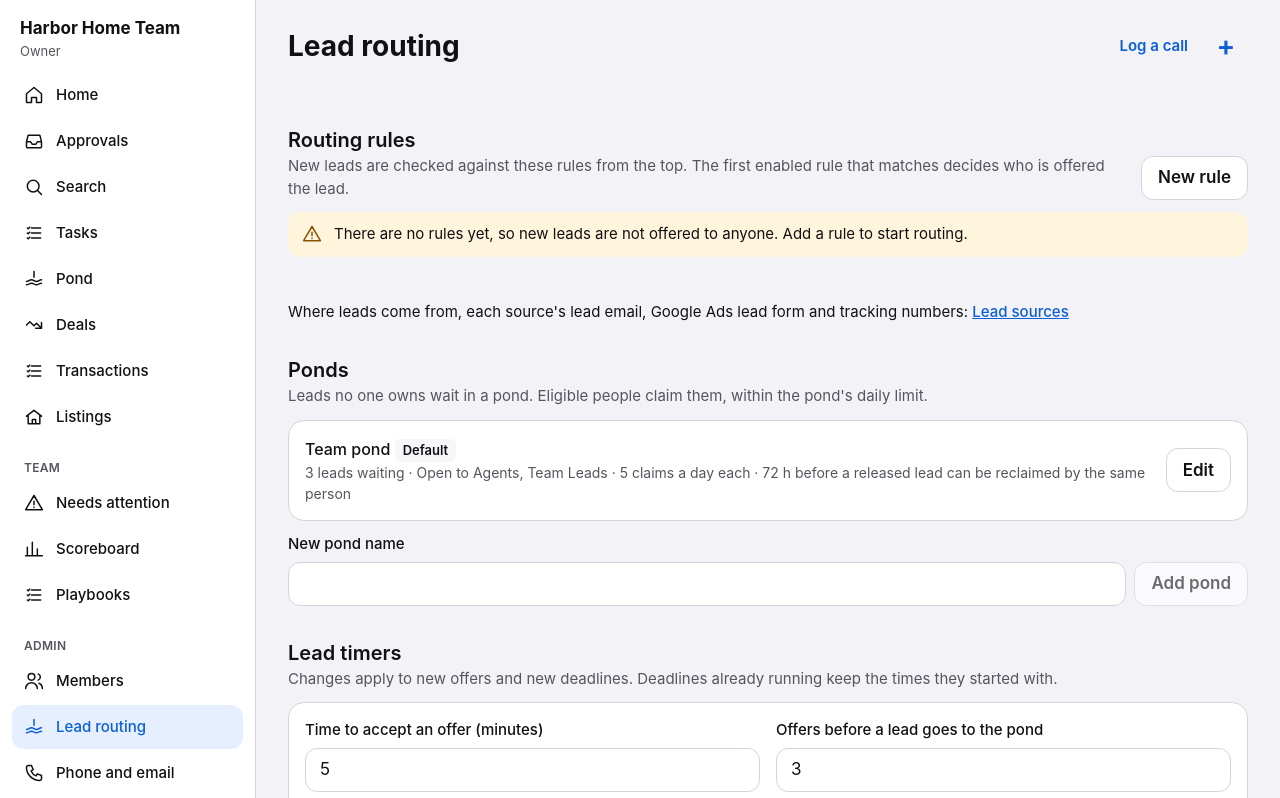
Test: Lead routing › does not send a rule that is missing what it needs, and says what is missing
This screenshot has width=1280, height=798.
What coordinates should you click on to do the following:
click the button "New rule"
I would click on:
 (1195, 178)
Its box is [1141,156,1248,200].
(page scrolled)
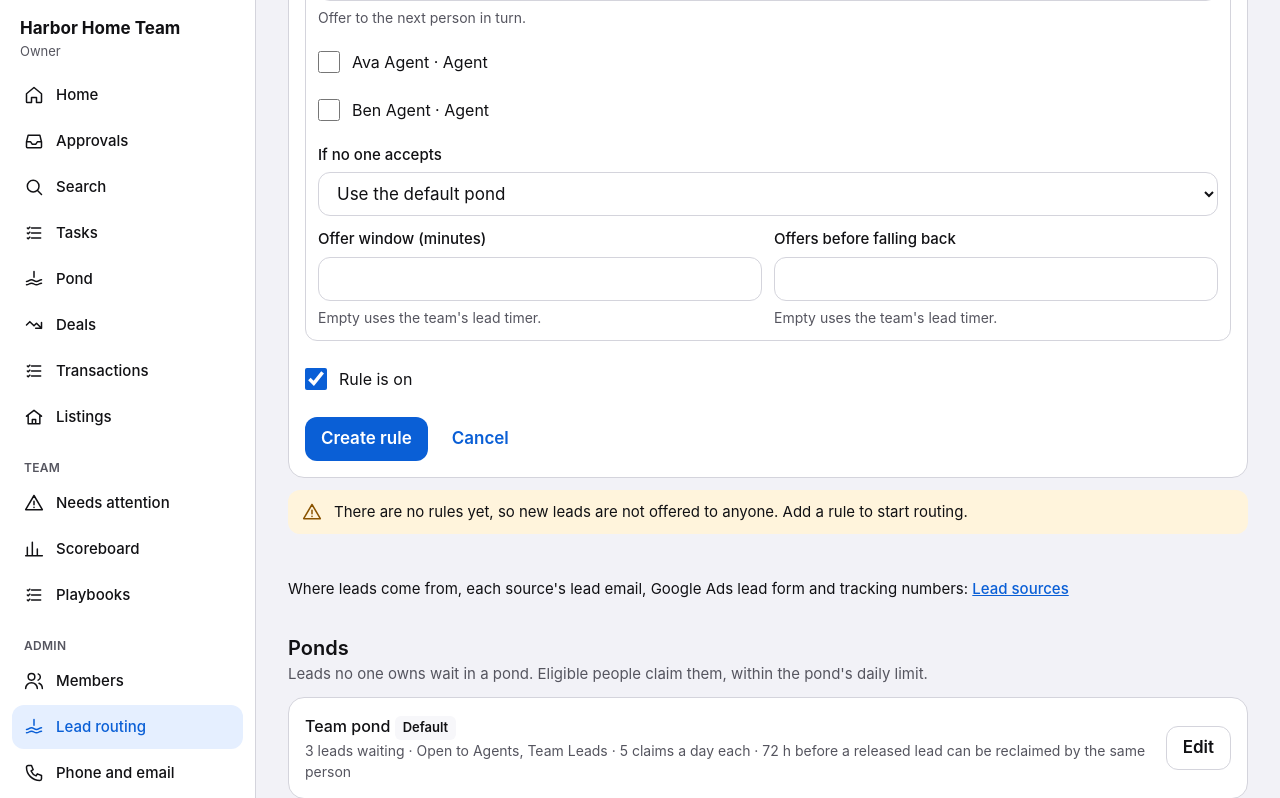
What coordinates should you click on to do the following:
click the button "Create rule"
I would click on:
 (366, 438)
Its box is [305,416,428,460].
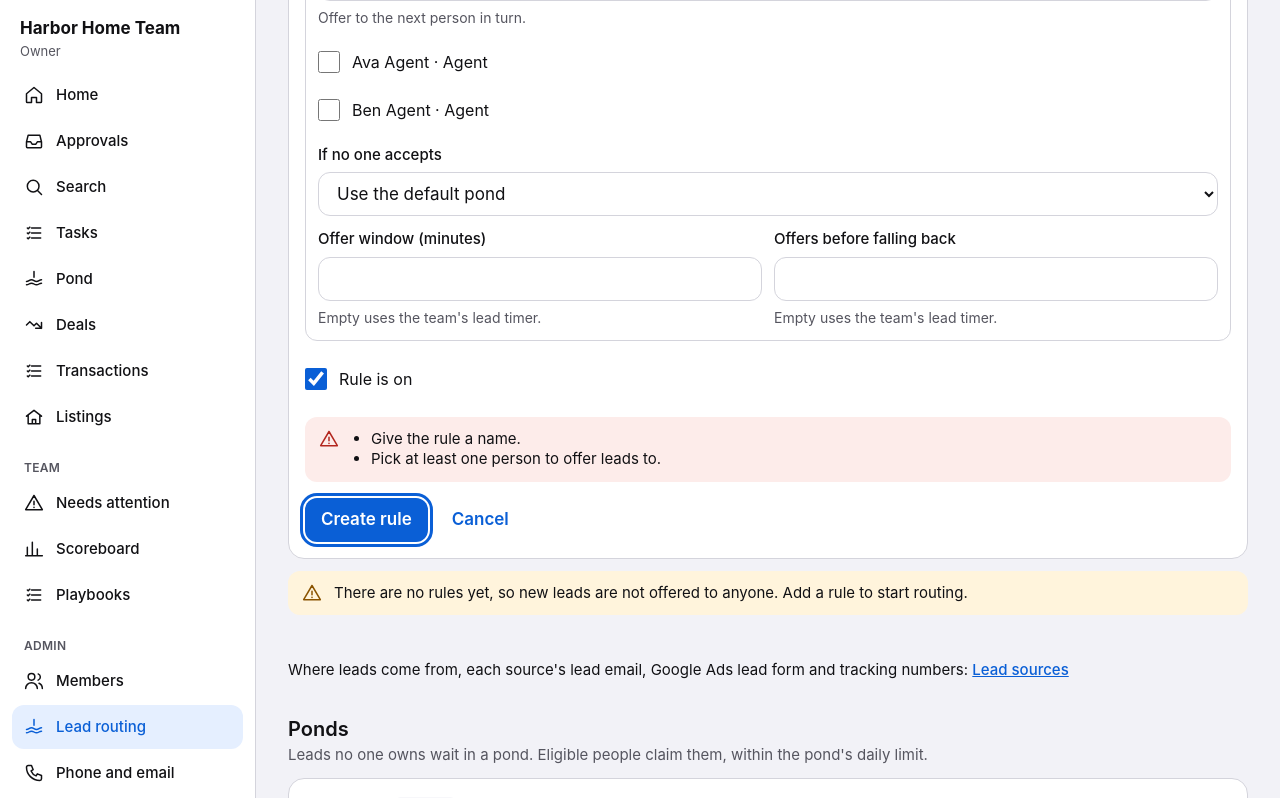
Expected: the list item "Give the rule a name." is shown, [371,428,521,448]
